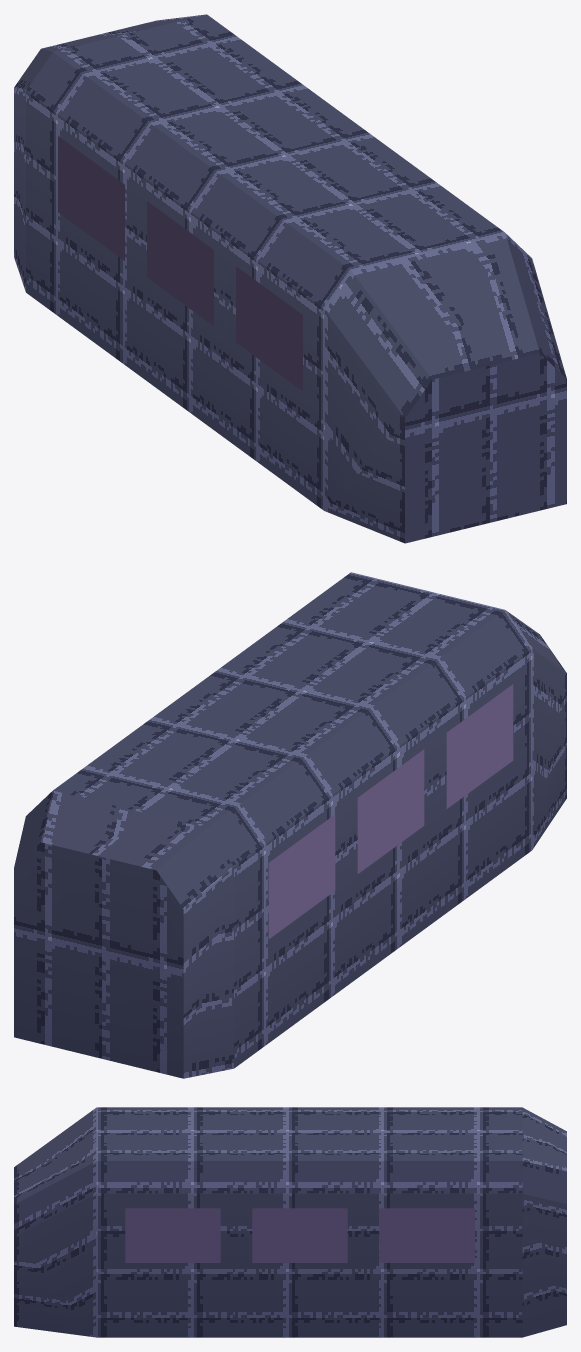
The model's file is cyroom.train.glb.
3 renders of one model, top to bottom at view 1: azimuth 30°, elevation 25°; view 2: azimuth 150°, elevation 25°; view 3: azimuth 270°, elevation 25°, orthographic. The views are drawn at different scales.
Parts seen in each view (by area): view 1: kit_body, kit_card_details; view 2: kit_body, kit_card_details; view 3: kit_body, kit_card_details.
Part boxes in pixels (box(x1,y1,x2,y2)): kit_body: box(14, 14, 566, 543); kit_card_details: box(58, 136, 302, 391); kit_body: box(14, 572, 566, 1078); kit_card_details: box(268, 684, 513, 938); kit_body: box(14, 1107, 566, 1337); kit_card_details: box(125, 1208, 474, 1262).
Bounding box in the file's own units: 2.73 × 2.9 × 8.7.
2 materials, 1 textured.
